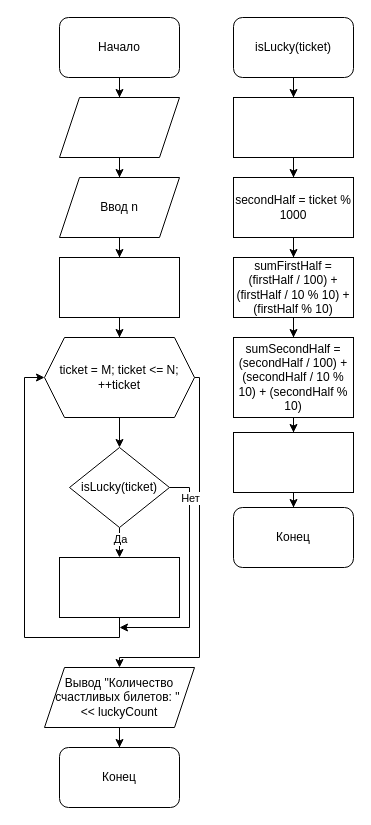
Image size: 371x825. Some labels were removed from this diagram. The shapes that lost their labels are listed below. From the top down, each one's centre as x and y in pixels, then its label:
At point 119,127: "Ввод M".
At point 293,127: "firstHalf = ticket / 1000".
At point 119,287: "luckyCount = 0".
At point 293,462: "return sumFirstHalf == sumSecondHalf".
At point 119,587: "luckyCount++".
